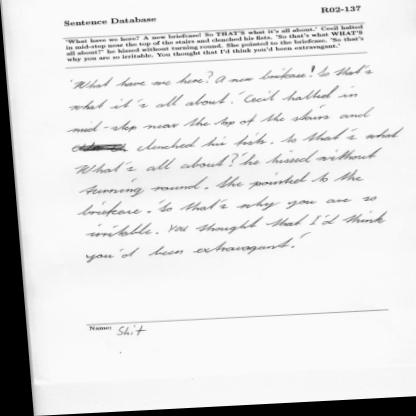Handwritten text: (75, 210, 389, 246), (65, 146, 387, 181), (69, 63, 372, 98), (64, 86, 364, 121), (65, 190, 381, 223), (69, 170, 367, 202), (66, 109, 376, 138), (133, 124, 405, 156), (78, 239, 290, 271)
